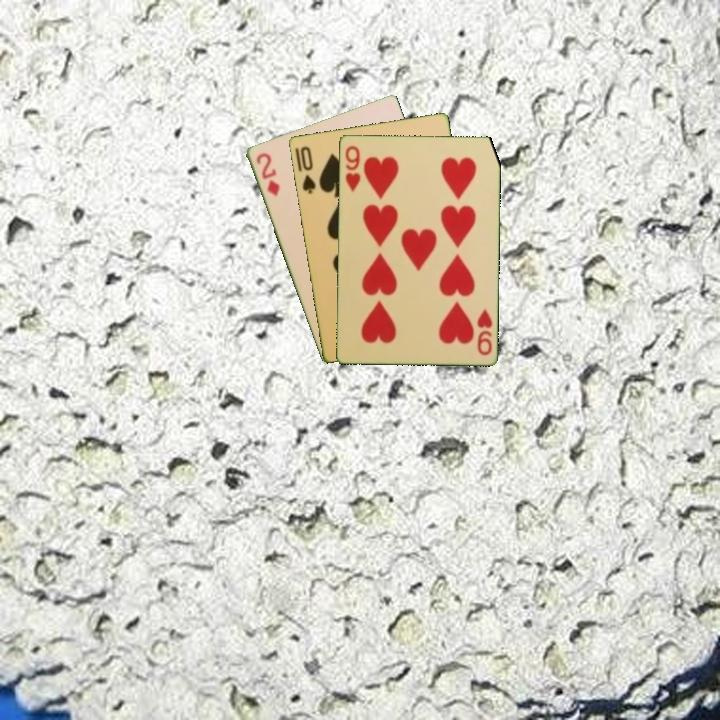10s: (296, 142, 318, 196)
2d: (252, 149, 282, 199)
9h: (473, 305, 495, 358), (342, 142, 363, 194)
